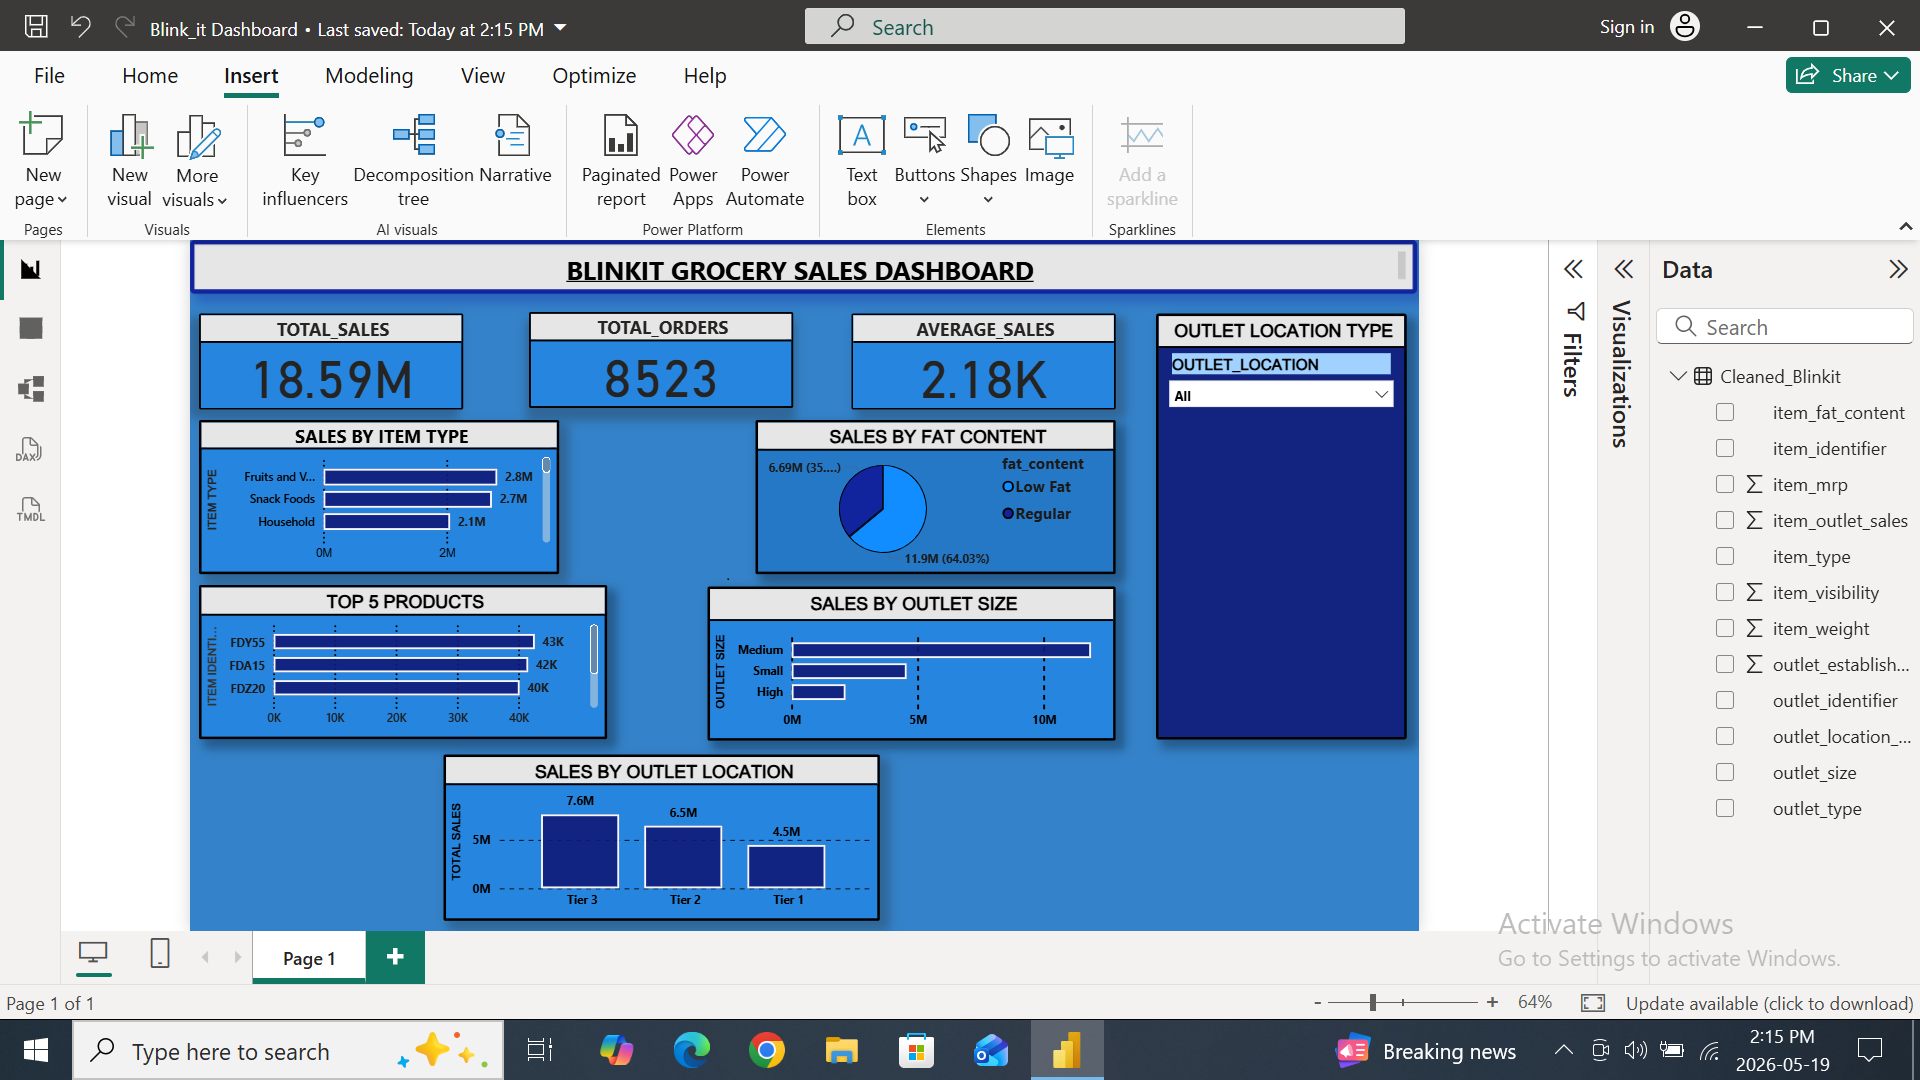

This screenshot's page, from the dashboard's own definition file:
{"tool":"powerbi","page":{"name":"Page 1","canvas":[1280,720],"ordinal":0},"visuals":[{"type":"card","title":"TOTAL_SALES","fields":{"Values":["Sum(Cleaned_Blinkit.item_outlet_sales)"]},"box":[9.5,76.3,275.2,100],"z":0},{"type":"card","title":"TOTAL_ORDERS","fields":{"Values":["CountNonNull(Cleaned_Blinkit.item_identifier)"]},"box":[353.1,74.8,275.2,100.2],"z":1000},{"type":"card","title":"AVERAGE_SALES","fields":{"Values":["Avg(Cleaned_Blinkit.item_outlet_sales)"]},"box":[688.7,76.3,275.2,100.2],"z":2000},{"type":"clusteredBarChart","title":"SALES BY ITEM TYPE","fields":{"Category":["Cleaned_Blinkit.item_type"],"Y":["Sum(Cleaned_Blinkit.item_outlet_sales)"]},"box":[9.5,187.7,375.4,160.7],"z":3000},{"type":"pieChart","title":"SALES BY FAT CONTENT","fields":{"Category":["Cleaned_Blinkit.item_fat_content"],"Y":["Sum(Cleaned_Blinkit.item_outlet_sales)"]},"box":[589.2,187.6,375.1,161],"z":4000},{"type":"clusteredBarChart","title":"SALES BY OUTLET SIZE","fields":{"Y":["Sum(Cleaned_Blinkit.item_outlet_sales)"],"Category":["Cleaned_Blinkit.outlet_size"]},"box":[539.2,361.1,425.1,161],"z":5000},{"type":"clusteredColumnChart","title":"SALES BY OUTLET LOCATION","fields":{"Category":["Cleaned_Blinkit.outlet_location_type"],"Y":["Sum(Cleaned_Blinkit.item_outlet_sales)"]},"box":[264.1,536.1,454.8,173.5],"z":6000},{"type":"clusteredBarChart","title":"TOP 5 PRODUCTS","fields":{"Category":["Cleaned_Blinkit.item_identifier"],"Y":["Sum(Cleaned_Blinkit.item_outlet_sales)"]},"box":[9.4,359.5,425,161],"z":7000},{"type":"slicer","title":"OUTLET LOCATION TYPE","fields":{"Values":["Cleaned_Blinkit.outlet_location_type"]},"box":[1006.6,76.6,261,443.9],"z":8000},{"type":"textbox","box":[0,0,1278.9,55.7],"z":9000}]}

Visuals, with their boxes on the page's 1280x720 design canvas (x1, y1, x2, y2). These are canvas units, not pixel positions in the 1920x1080 screenshot, which may show the page scaled, cropped or inside an application window:
"TOTAL_SALES" card: <box>10,76,285,176</box>
"TOTAL_ORDERS" card: <box>353,75,628,175</box>
"AVERAGE_SALES" card: <box>689,76,964,176</box>
"SALES BY ITEM TYPE" clusteredBarChart: <box>10,188,385,348</box>
"SALES BY FAT CONTENT" pieChart: <box>589,188,964,349</box>
"SALES BY OUTLET SIZE" clusteredBarChart: <box>539,361,964,522</box>
"SALES BY OUTLET LOCATION" clusteredColumnChart: <box>264,536,719,710</box>
"TOP 5 PRODUCTS" clusteredBarChart: <box>9,360,434,520</box>
"OUTLET LOCATION TYPE" slicer: <box>1007,77,1268,520</box>
textbox: <box>0,0,1279,56</box>
